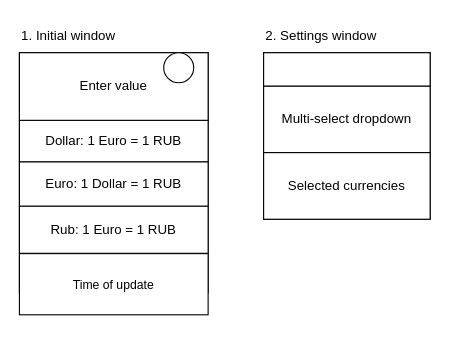
This 450x337 diagram has some shape labels left out. Here are the shapes that lost their labels. From the top down, the centre of each, then its label:
At point (178, 67): "settings icon".
At point (346, 69): "Select currencies".
